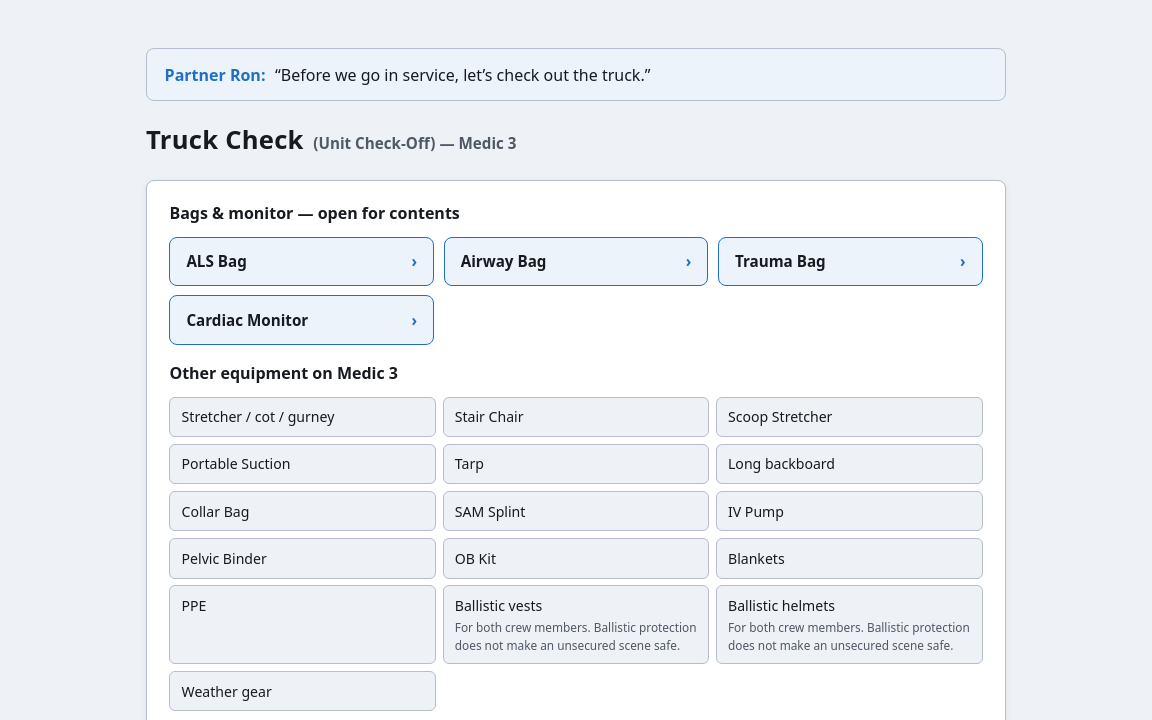
it: ShiftStart — start-of-shift flow (§4) › opens ALS Bag contents showing Broselow tape and narcotics-on-the-belt
What coordinates should you click on to do the following:
click the button "ALS Bag ›"
I would click on:
 (217, 261)
Its box is x1=169 y1=237 x2=434 y2=286.
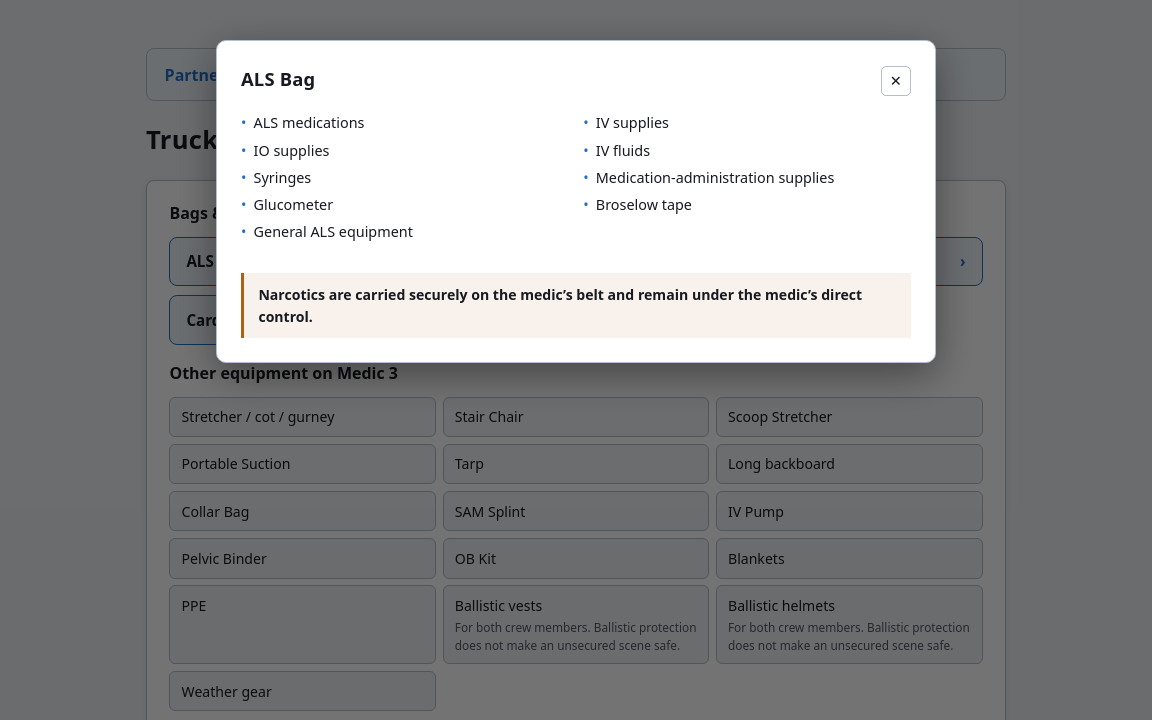
Expected: the list item "Broselow tape" is shown, x1=596 y1=195 x2=692 y2=214
Expected: the text "on the medic’s belt" is shown, x1=258 y1=285 x2=862 y2=326
